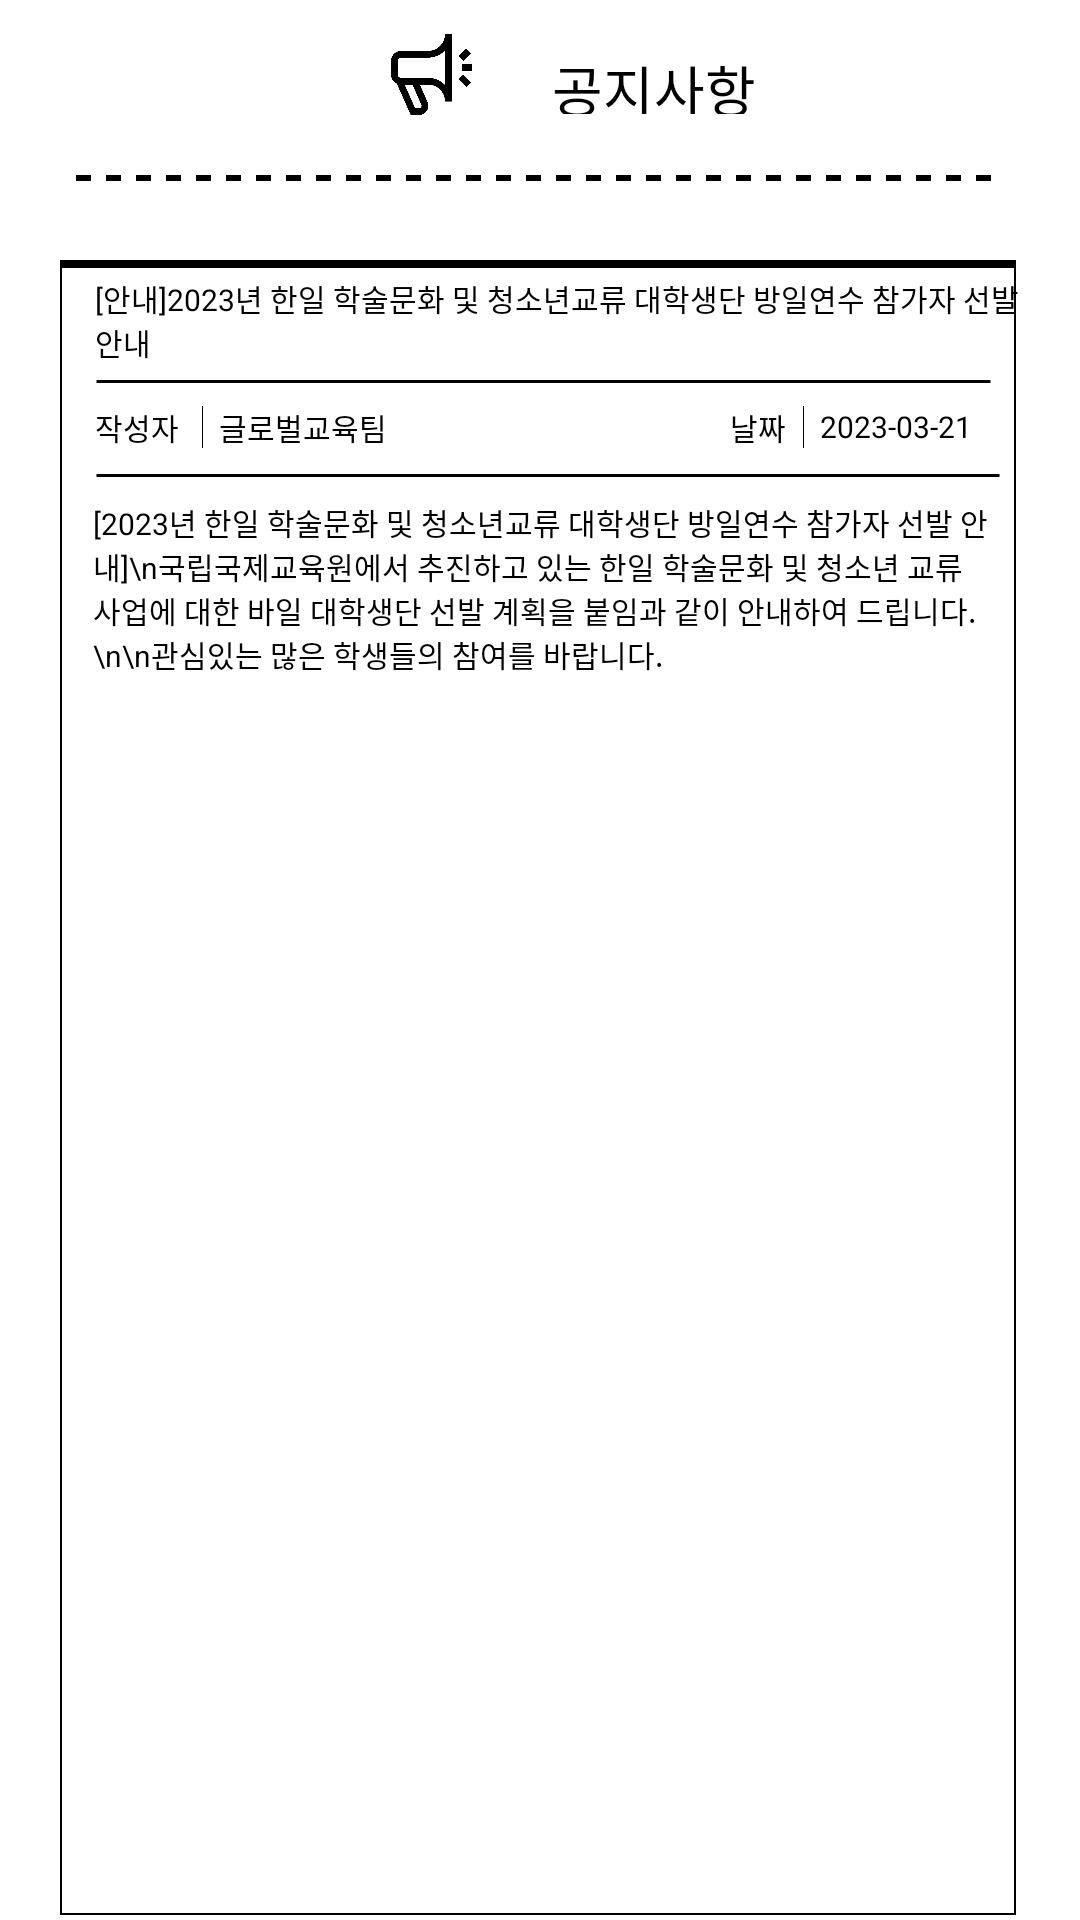

Icons on this 1080 x 1920 Android screen, each with its box as rect(x1, y1, x2, y2):
announcement: rect(391, 34, 472, 115)
